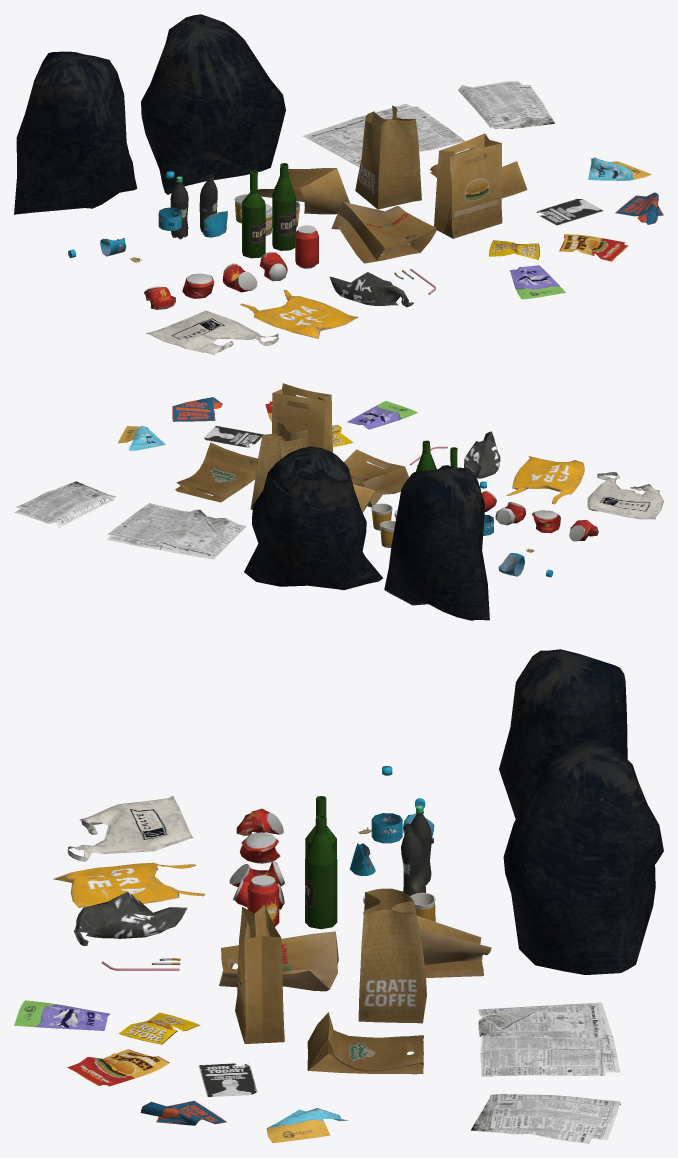
Rendered from trash_kit.fbx.
3 renders of one model, top to bottom at view 1: azimuth 30°, elevation 25°; view 2: azimuth 150°, elevation 25°; view 3: azimuth 270°, elevation 25°, orthographic. The views are drawn at different scales.
Visible parts, largest first — view 1: Bin_Bag_B, Bin_Bag_A, Paper_Bag_A, Paper_Bag_C, Paper_Bag_E, Pieces_of_paper_B, Pieces_of_paper_H, Plastic_Bag_C, Plastic_Bag_B, Paper_Bag_B, Glass_Bottle_A, Plastic_Bag_A (+17 smaller); view 2: Bin_Bag_B, Bin_Bag_A, Pieces_of_paper_B, Paper_Bag_A, Paper_Bag_D, Pieces_of_paper_H, Plastic_Bag_C, Plastic_Bag_B, Paper_Bag_E, Paper_Bag_C, Plastic_Bag_A, Pieces_of_paper_G (+9 smaller); view 3: Bin_Bag_B, Bin_Bag_A, Pieces_of_paper_B, Paper_Bag_C, Paper_Bag_A, Pieces_of_paper_H, Paper_Bag_D, Plastic_Bag_C, Paper_Bag_E, Plastic_Bag_B, Plastic_Bag_A, Paper_Bag_B (+13 smaller).
Part boxes in pixels (bbox=[...]): Bin_Bag_B: bbox=[141, 14, 285, 194]; Bin_Bag_A: bbox=[14, 51, 137, 214]; Paper_Bag_A: bbox=[434, 133, 502, 238]; Paper_Bag_C: bbox=[355, 105, 421, 209]; Paper_Bag_E: bbox=[331, 201, 436, 263]; Pieces_of_paper_B: bbox=[302, 103, 464, 167]; Pieces_of_paper_H: bbox=[458, 81, 554, 128]; Plastic_Bag_C: bbox=[145, 310, 278, 354]; Plastic_Bag_B: bbox=[240, 290, 358, 338]; Paper_Bag_B: bbox=[257, 168, 349, 214]; Glass_Bottle_A: bbox=[272, 163, 296, 250]; Plastic_Bag_A: bbox=[330, 272, 414, 306]; Bin_Bag_B: bbox=[244, 446, 382, 590]; Bin_Bag_A: bbox=[384, 465, 489, 620]; Pieces_of_paper_B: bbox=[107, 503, 246, 559]; Paper_Bag_A: bbox=[272, 383, 332, 452]; Paper_Bag_D: bbox=[175, 442, 257, 502]; Pieces_of_paper_H: bbox=[14, 481, 116, 527]; Plastic_Bag_C: bbox=[587, 472, 663, 519]; Plastic_Bag_B: bbox=[506, 456, 584, 504]; Paper_Bag_E: bbox=[344, 449, 408, 507]; Paper_Bag_C: bbox=[250, 422, 308, 509]; Plastic_Bag_A: bbox=[464, 431, 500, 478]; Pieces_of_paper_G: bbox=[347, 401, 417, 429]; Bin_Bag_B: bbox=[503, 739, 663, 974]; Bin_Bag_A: bbox=[499, 649, 627, 818]; Pieces_of_paper_B: bbox=[478, 1002, 620, 1076]; Paper_Bag_C: bbox=[358, 888, 426, 1023]; Paper_Bag_A: bbox=[235, 905, 284, 1043]; Pieces_of_paper_H: bbox=[471, 1094, 620, 1143]; Paper_Bag_D: bbox=[307, 1012, 423, 1074]; Plastic_Bag_C: bbox=[67, 796, 192, 861]; Paper_Bag_E: bbox=[219, 931, 338, 991]; Plastic_Bag_B: bbox=[53, 862, 204, 907]; Plastic_Bag_A: bbox=[74, 892, 187, 945]; Paper_Bag_B: bbox=[417, 916, 491, 977].
Size of the model in its own units: 23.07 by 6.23 by 18.36.
1 material, 1 textured.
